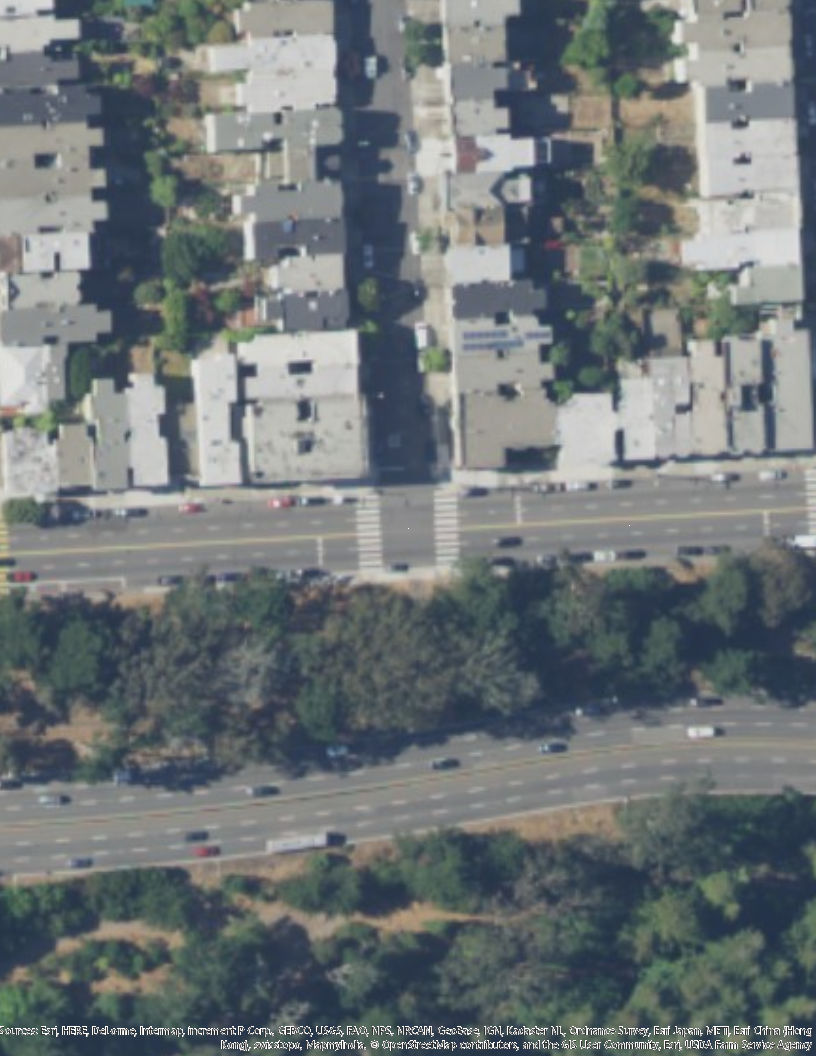zebracross: (433, 484, 464, 568), (354, 492, 382, 573), (806, 469, 816, 533)
